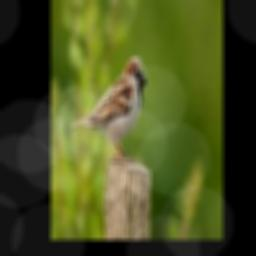Sparrow: (69, 56, 147, 162)
